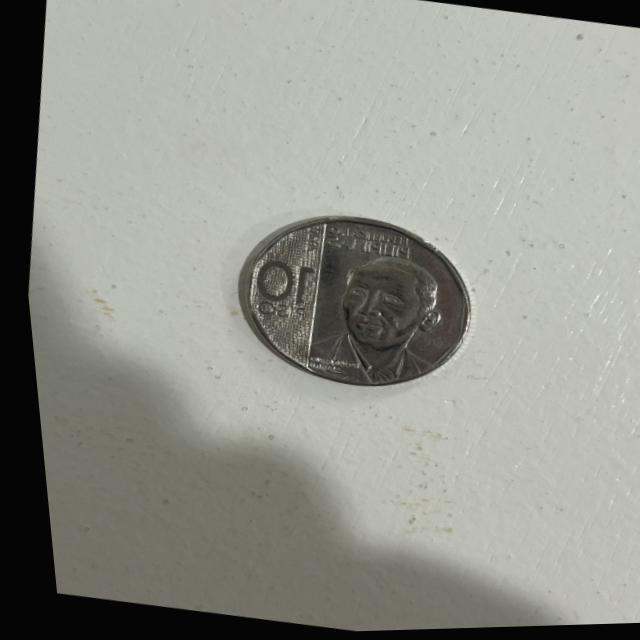10_New_Front: (237, 225, 462, 389)
